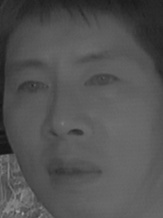eye: (82, 68, 121, 93), (13, 76, 50, 98)
mouth: (44, 157, 102, 189)
